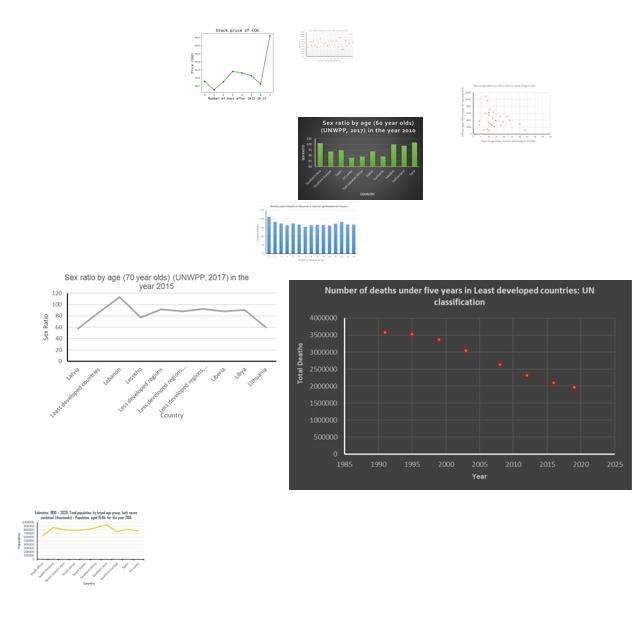Graph: (289, 280, 632, 490), (33, 271, 281, 419), (13, 507, 147, 586), (298, 117, 423, 200), (185, 24, 287, 101), (254, 202, 359, 264), (460, 82, 553, 144), (298, 29, 354, 62)
